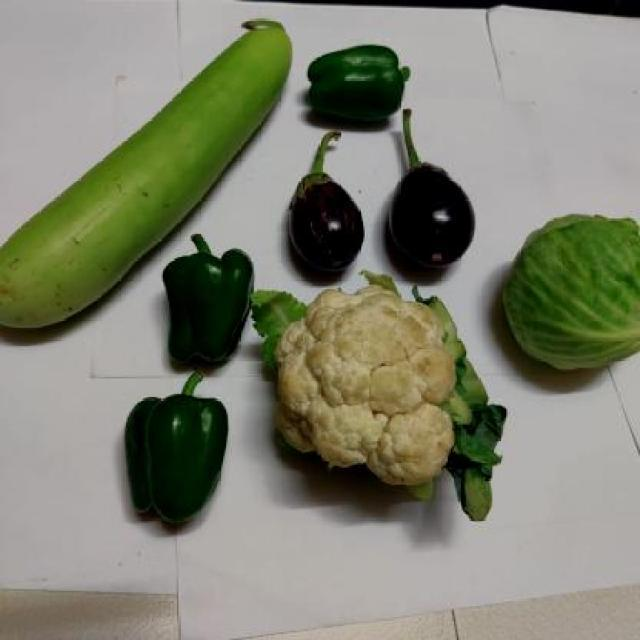Brinjal: (392, 110, 486, 276), (274, 132, 372, 274)
Cabbage: (498, 206, 640, 385)
Calabash: (0, 12, 297, 243)
Capsicum: (120, 372, 231, 536), (157, 232, 260, 368), (304, 43, 412, 129)
Cauliflower: (272, 280, 506, 518)
